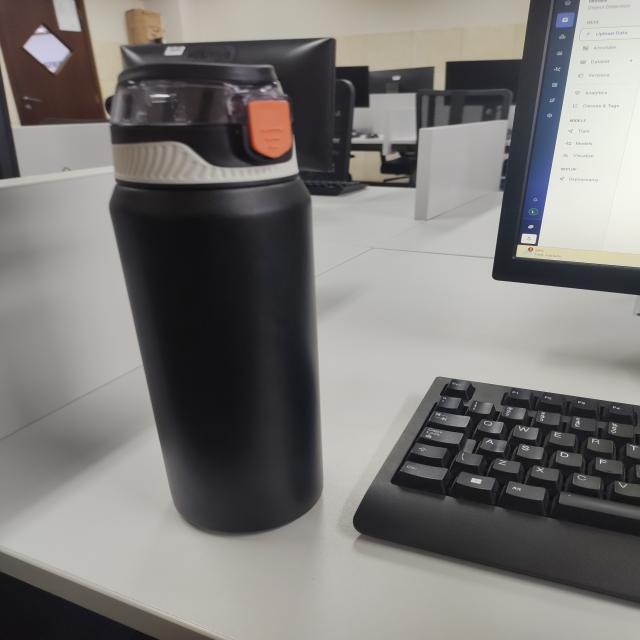Garrafa: (89, 38, 359, 546)
